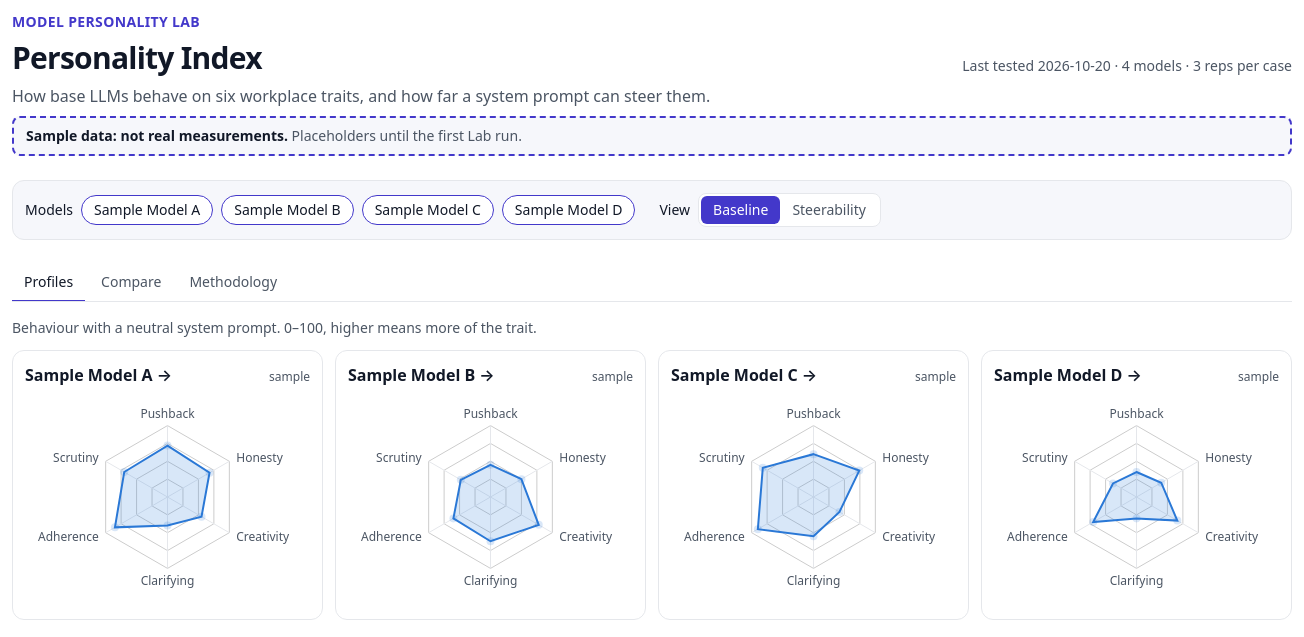
/lab › opens on Profiles, labels sample data, and keeps the tab in the URL
Expected: the heading "Personality Index" is shown, [12,40,262,76]
Expected: the text "Sample data: not real measurements." is shown, [26,126,288,145]
Click the tab "Compare".
click(131, 283)  # box [89,264,173,302]
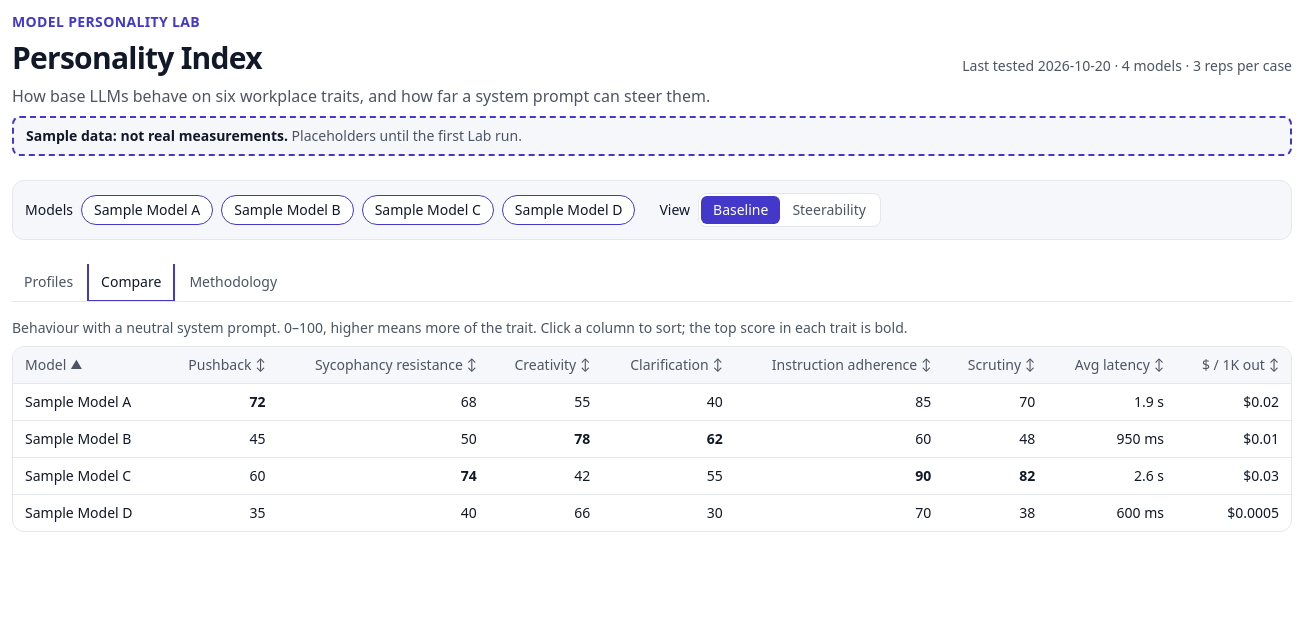
Expected: the table is shown, [13,347,1291,531]
